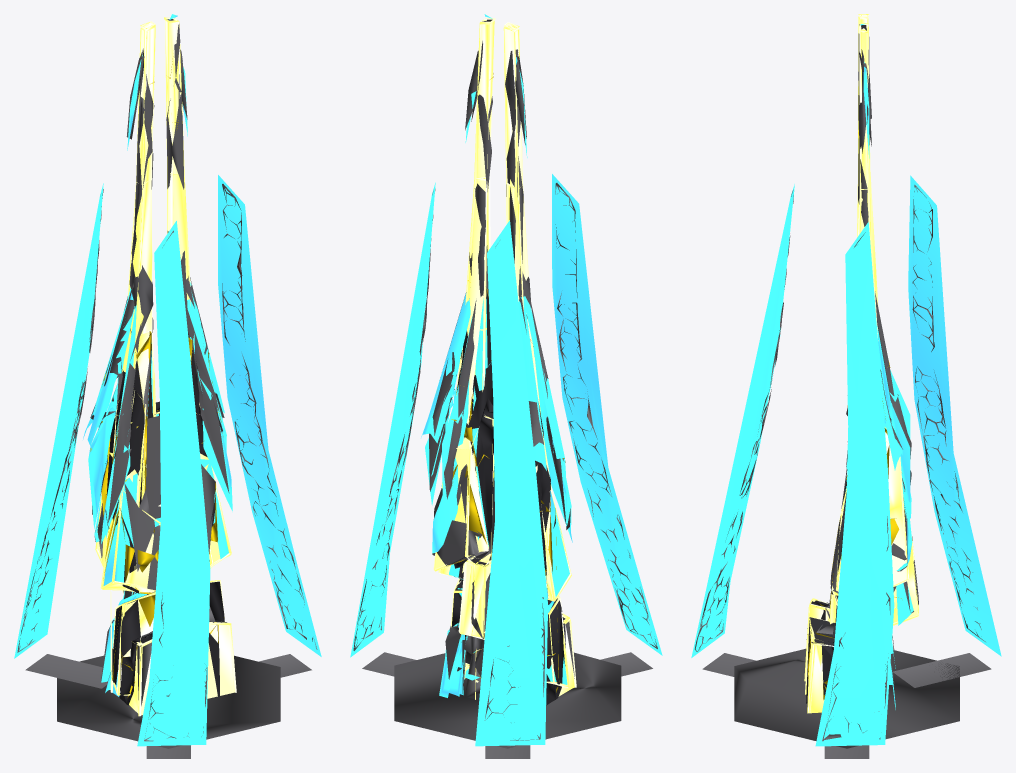
The model's file is arranha.glb.
3 views of the same model, side by side, from view 1: azimuth 30°, elevation 25°; view 2: azimuth 150°, elevation 25°; view 3: azimuth 270°, elevation 25° (orthographic).
Parts seen in each view (by area): view 1: Object_14_4, Object_7_0, Object_12_3, Object_10_2; view 2: Object_14_4, Object_7_0, Object_12_3, Object_10_2; view 3: Object_14_4, Object_7_0, Object_12_3, Object_10_2.
Part boxes in pixels (<box>): Object_14_4: <box>14,14,321,746</box>; Object_7_0: <box>17,24,317,758</box>; Object_12_3: <box>95,17,236,716</box>; Object_10_2: <box>90,19,226,705</box>; Object_14_4: <box>350,14,662,746</box>; Object_7_0: <box>353,41,657,758</box>; Object_12_3: <box>433,18,576,699</box>; Object_10_2: <box>446,19,565,705</box>; Object_14_4: <box>691,23,1001,746</box>; Object_7_0: <box>695,33,991,758</box>; Object_12_3: <box>804,14,918,713</box>; Object_10_2: <box>806,24,912,703</box>.
Size of the model in its own units: 2.91 by 7.48 by 3.11.
Materials: 4 (4 with a texture image).
